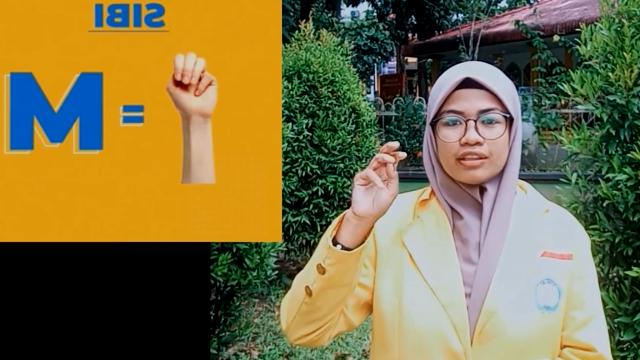M: (159, 51, 223, 182)
